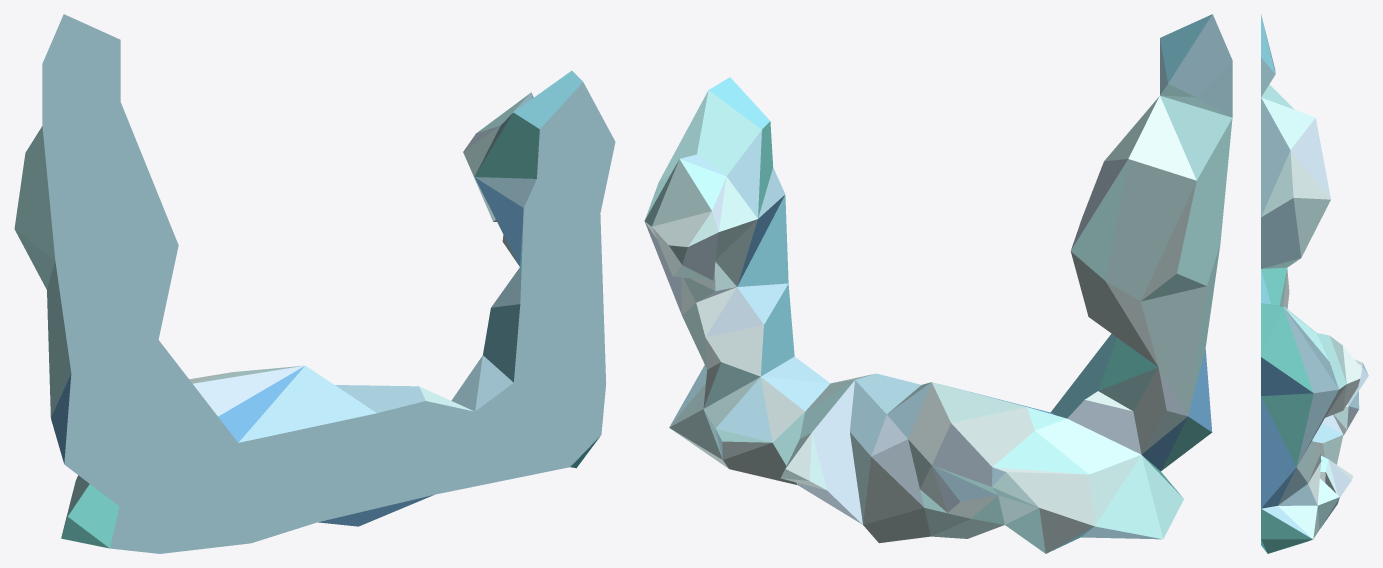
The model's file is winter_mountain_7.fbx.
The picture shows the model from 3 angles, left to right: view 1: azimuth 30°, elevation 25°; view 2: azimuth 150°, elevation 25°; view 3: azimuth 270°, elevation 25°; orthographic projection. The views are drawn at different scales.
Parts seen in each view (by area): view 1: winter_mountain_7; view 2: winter_mountain_7; view 3: winter_mountain_7.
Boxes of the visible parts, <box> form: winter_mountain_7: <box>14,14,615,553</box>; winter_mountain_7: <box>644,14,1232,553</box>; winter_mountain_7: <box>1261,14,1368,553</box>.
Size of the model in its own units: 493 by 500 by 124.
